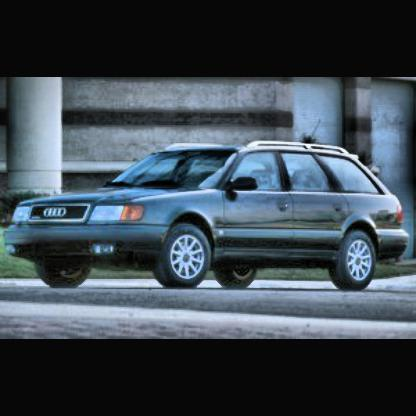Audi 100 Wagon 1994: (10, 116, 413, 294)
